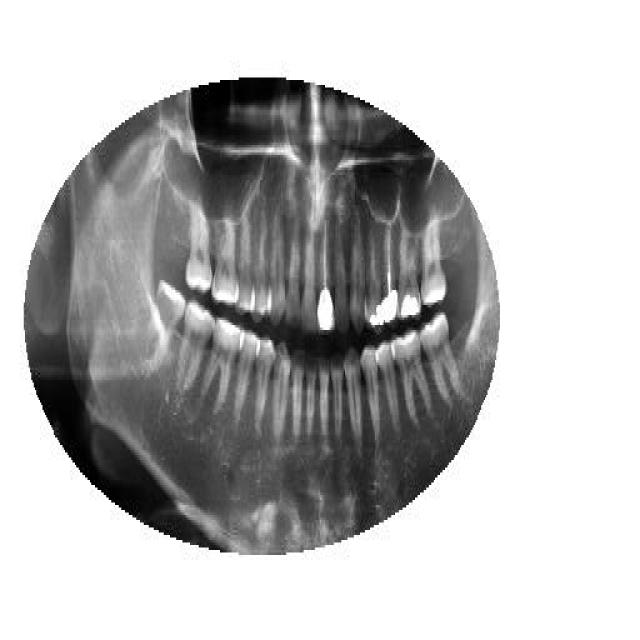Fillings: (396, 228, 422, 320), (364, 228, 385, 338)
Implant: (316, 215, 335, 335), (382, 220, 398, 325)
